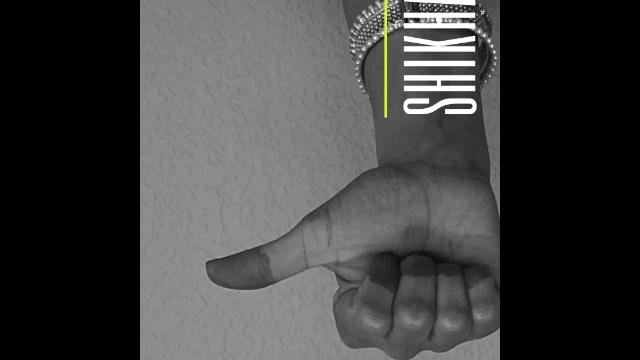shikhar: (170, 130, 500, 360)
